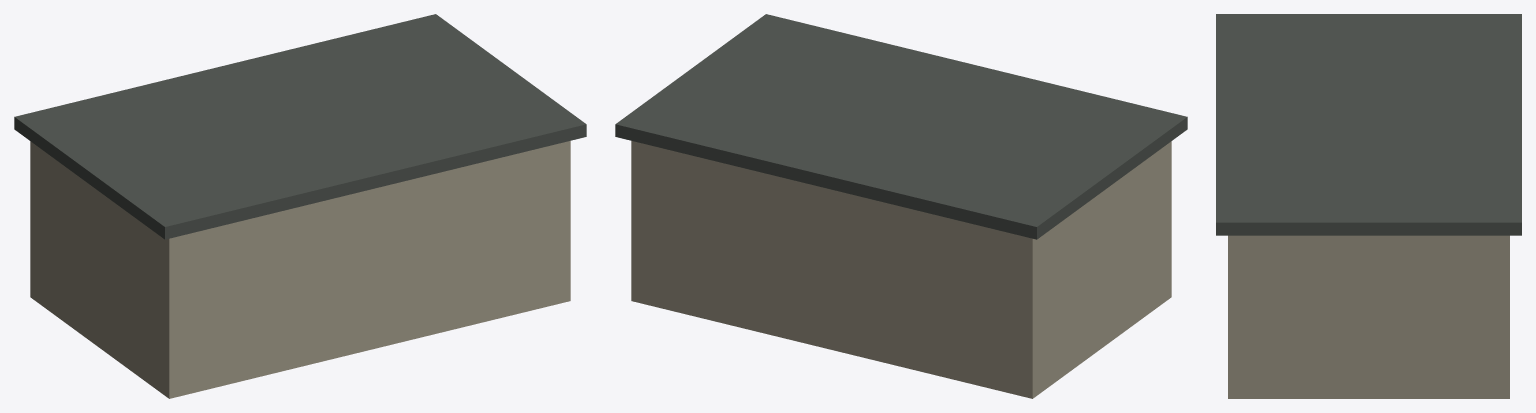
Rendered from regional-market-hall.source.glb.
3 renders of one model, left to right at view 1: azimuth 30°, elevation 25°; view 2: azimuth 150°, elevation 25°; view 3: azimuth 270°, elevation 25°, orthographic.
Visible parts, largest first — view 1: regional-market-hall-hall-mesh, regional-market-hall-roof-mesh; view 2: regional-market-hall-hall-mesh, regional-market-hall-roof-mesh; view 3: regional-market-hall-roof-mesh, regional-market-hall-hall-mesh.
Boxes of the visible parts, x1,y1,x2,y2 form: regional-market-hall-hall-mesh: (30,141,570,398); regional-market-hall-roof-mesh: (14,14,586,239); regional-market-hall-hall-mesh: (631,141,1171,398); regional-market-hall-roof-mesh: (615,14,1187,239); regional-market-hall-roof-mesh: (1216,14,1521,235); regional-market-hall-hall-mesh: (1228,235,1509,398).
Size of the model in its own units: 10.5 by 4.25 by 6.5.
